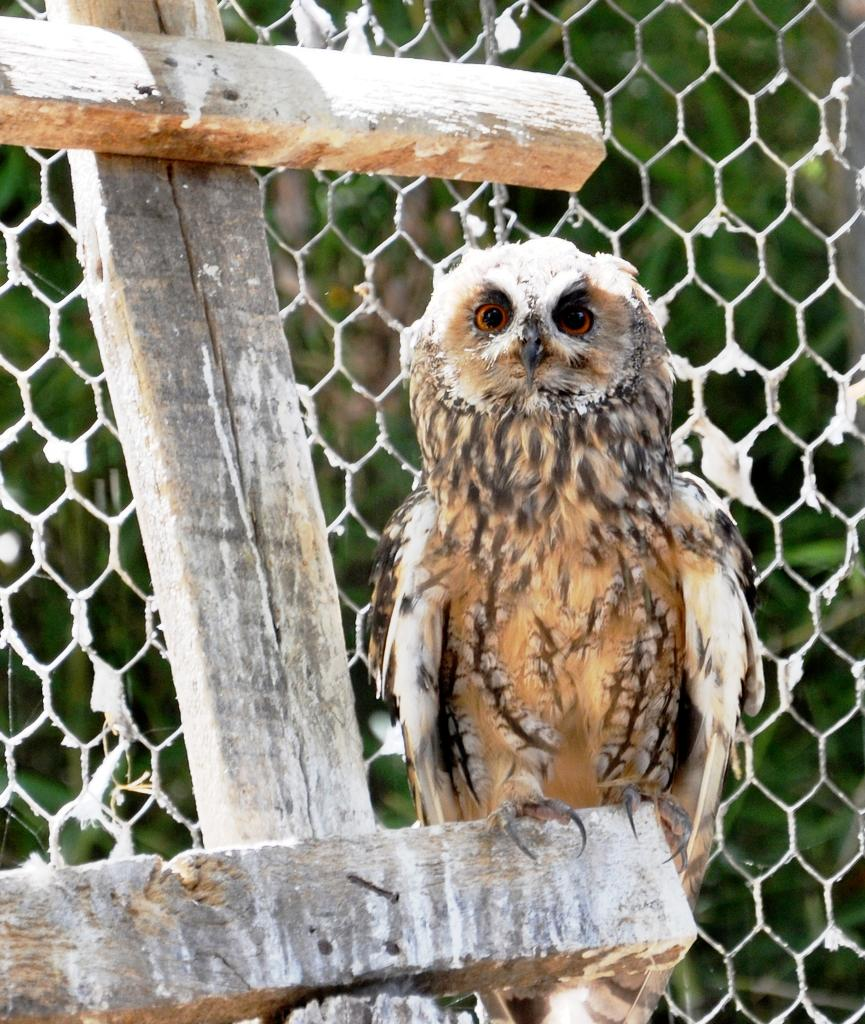Owl: (356, 232, 776, 1024)
